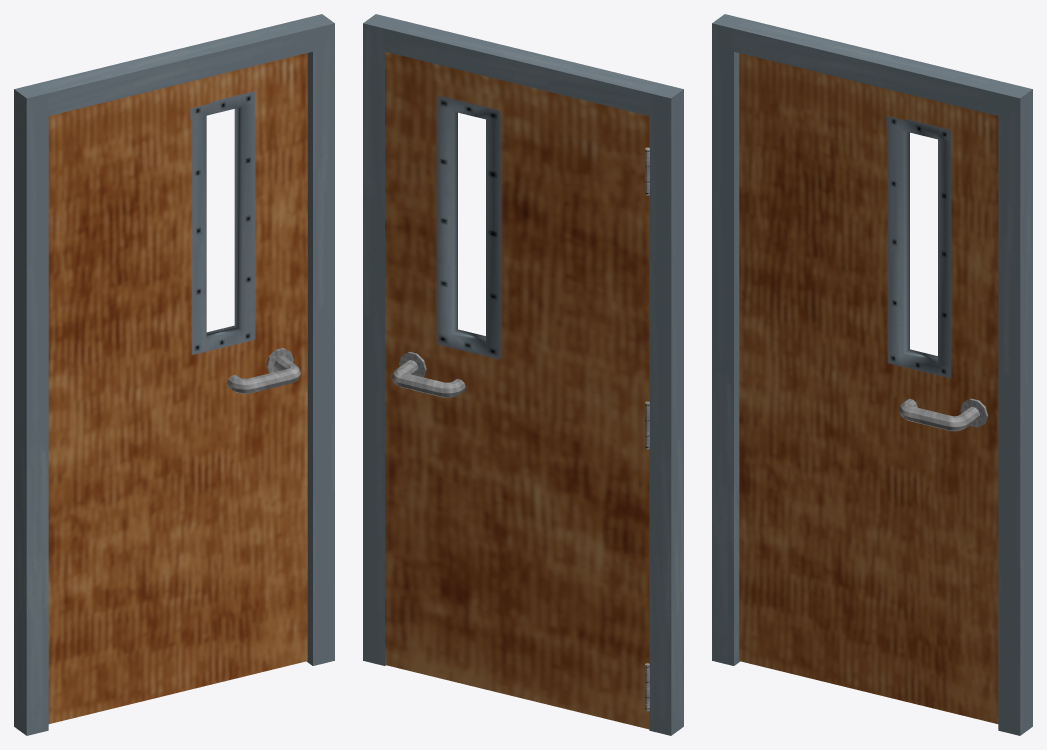
The model's file is Bennett_Closed_Door.fbx.
3 views of the same model, side by side, from view 1: azimuth 30°, elevation 25°; view 2: azimuth 150°, elevation 25°; view 3: azimuth 330°, elevation 25° (orthographic).
Parts seen in each view (by area): view 1: Bennett_Closed_Door; view 2: Bennett_Closed_Door; view 3: Bennett_Closed_Door.
Part boxes in pixels (x1=…): Bennett_Closed_Door: x1=14, y1=14, x2=334, y2=735; Bennett_Closed_Door: x1=363, y1=14, x2=683, y2=735; Bennett_Closed_Door: x1=712, y1=14, x2=1032, y2=735.
Size of the model in its own units: 3.5 by 6.92 by 0.9736.
